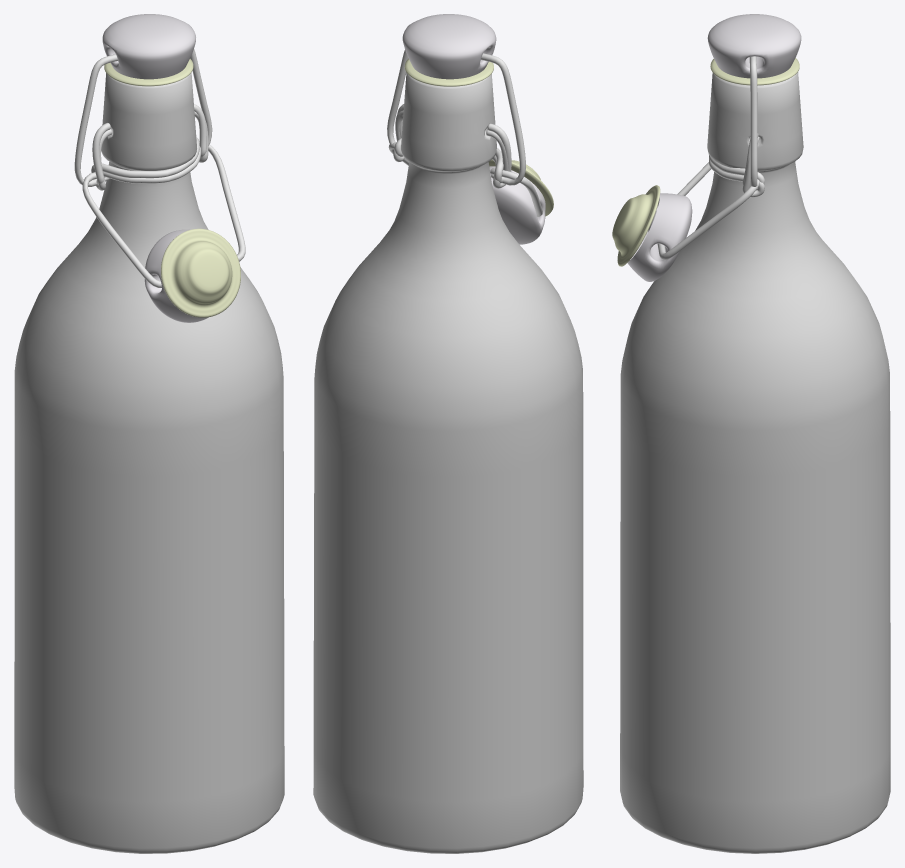
The model's file is Bottle.fbx.
3 views of the same model, side by side, from view 1: azimuth 30°, elevation 25°; view 2: azimuth 150°, elevation 25°; view 3: azimuth 270°, elevation 25° (orthographic).
Visible parts, largest first — view 1: Bottle, Cap2, Cap, Clasp, Clasp2, Clasp3, Cap gasket; view 2: Bottle, Cap, Cap2, Clasp, Cap gasket, Clasp3, Clasp2; view 3: Bottle, Cap2, Cap, Clasp, Clasp2, Cap gasket.
Boxes of the visible parts, x1,y1,x2,y2 form: Bottle: [14, 72, 284, 853]; Cap2: [144, 228, 240, 322]; Cap: [102, 14, 195, 79]; Clasp: [74, 49, 212, 190]; Clasp2: [82, 141, 245, 287]; Clasp3: [91, 104, 206, 184]; Cap gasket: [104, 59, 193, 86]; Bottle: [313, 72, 583, 853]; Cap: [402, 14, 496, 79]; Cap2: [488, 159, 553, 244]; Clasp: [387, 50, 525, 188]; Cap gasket: [404, 58, 493, 86]; Clasp3: [394, 104, 511, 183]; Clasp2: [388, 142, 542, 216]; Bottle: [620, 72, 890, 853]; Cap2: [612, 185, 692, 281]; Cap: [707, 14, 801, 78]; Clasp: [709, 56, 764, 197]; Clasp2: [657, 162, 759, 260]; Cap gasket: [710, 58, 799, 85].
Bounding box in the file's own units: 18.09 × 57.32 × 18.61.
